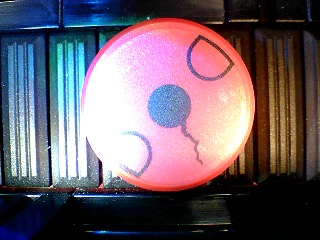CRACK: (79, 17, 256, 192)
